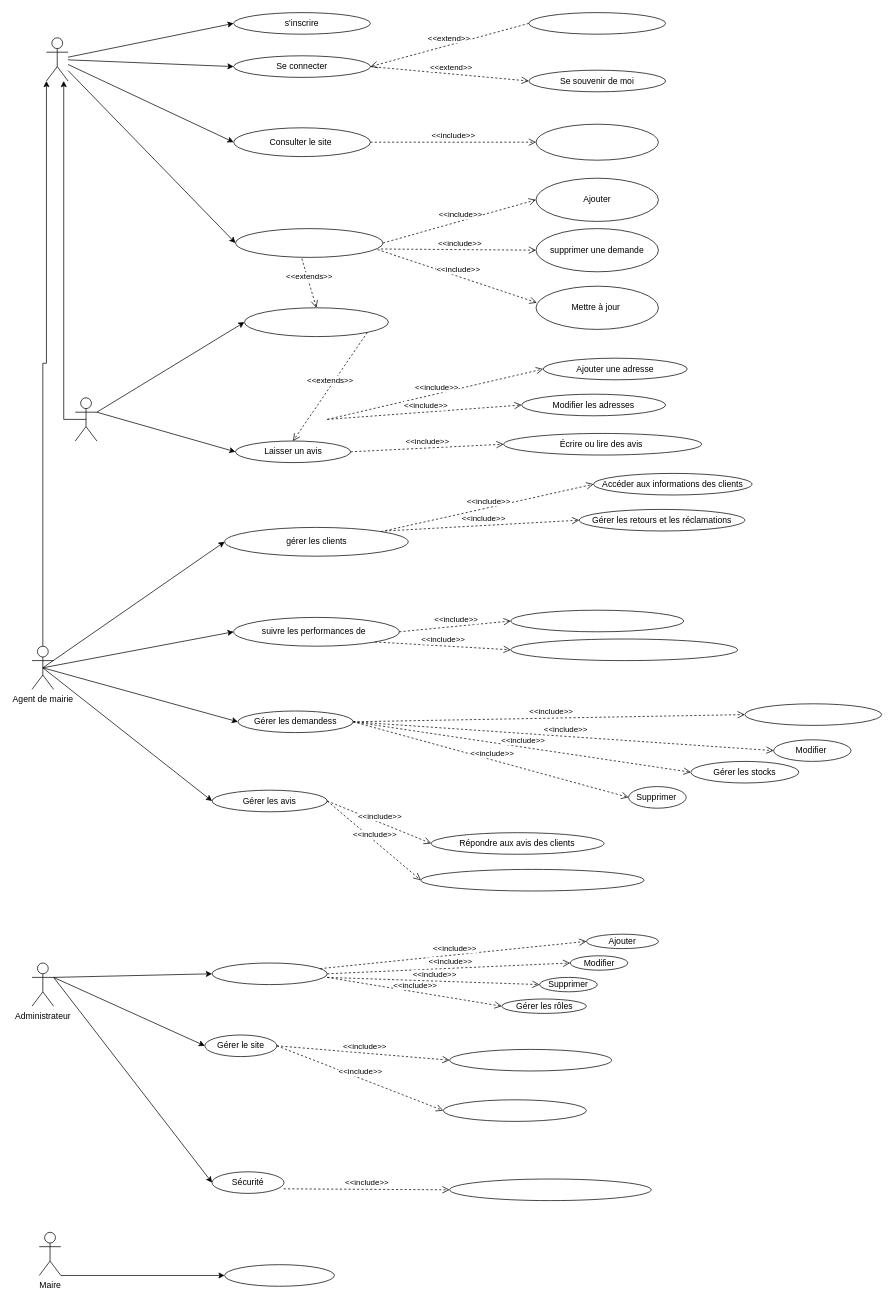
This 894x1303 diagram has some shape labels left out. Here are the shapes that lost their labels. From the top down, the centre of each, then its label:
[597,23]: Recuperer son mot de passe
[57,59]: visiteur
[596,141]: Voir les détails
[309,242]: gerer son panier
[316,322]: passer une demande
[86,419]: Citoyen
[597,620]: Accéder aux rapports de ventes
[624,649]: Analyser les données pour améliorer les ventes
[813,714]: Ajouter de nouvelles demandent
[532,880]: Modérer les avis (approbation/suppression)
[269,973]: Gérer les utilisateurs
[530,1060]: Modifier les paramètres du site
[514,1110]: Gérer les catégories de produits
[550,1189]: Gérer les paramètres de sécurité du site
[279,1275]: Approuve les documents
